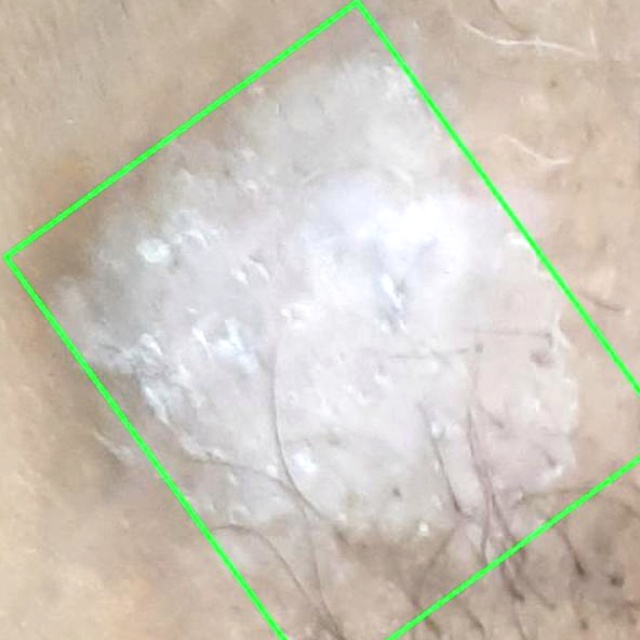Contact Dermatitis: (6, 2, 639, 639)
